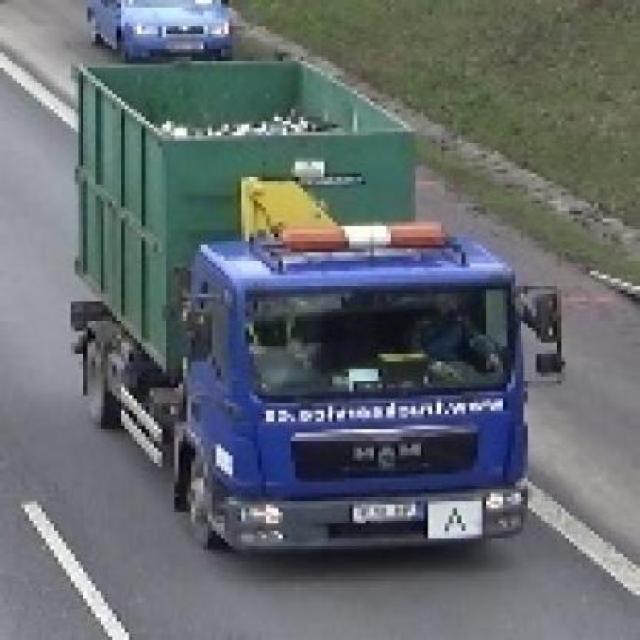truck: (64, 57, 567, 559)
